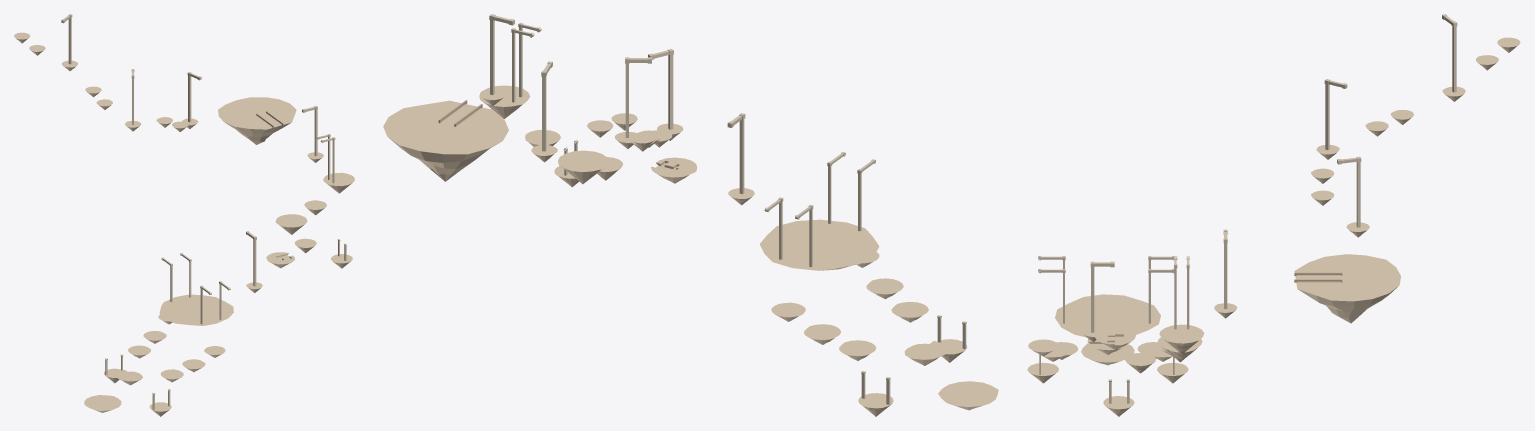
Rendered from trick2_fixed2.fbx.
3 views of the same model, side by side, from view 1: azimuth 30°, elevation 25°; view 2: azimuth 150°, elevation 25°; view 3: azimuth 270°, elevation 25° (orthographic). The views are drawn at different scales.
Parts seen in each view (by area): view 1: isl10, isl19, isl29, isl15, isl12, support_5, isl17_lock; view 2: isl10, isl19, isl29, isl15, isl17_lock, support_5, isl12, isl28_lock, support4, support3, suport, support_3; view 3: isl10, isl19, isl12, isl29, isl17_lock, support_5, support9, suport.
Part boxes in pixels (left/top/right/bottom): isl10: left=218, top=97, right=296, bottom=144; isl19: left=159, top=294, right=233, bottom=325; isl29: left=84, top=395, right=121, bottom=412; isl15: left=275, top=214, right=307, bottom=234; isl12: left=323, top=172, right=354, bottom=193; support_5: left=316, top=134, right=335, bottom=183; isl17_lock: left=266, top=252, right=294, bottom=268; isl10: left=383, top=100, right=508, bottom=181; isl19: left=759, top=219, right=879, bottom=270; isl29: left=938, top=381, right=998, bottom=410; isl15: left=558, top=150, right=608, bottom=184; isl17_lock: left=651, top=157, right=697, bottom=183; support_5: left=511, top=22, right=541, bottom=102; isl12: left=479, top=85, right=530, bottom=118; isl28_lock: left=904, top=341, right=946, bottom=365; support4: left=827, top=152, right=875, bottom=231; support3: left=764, top=197, right=813, bottom=266; suport: left=648, top=48, right=673, bottom=129; support_3: left=727, top=113, right=745, bottom=194; isl10: left=1294, top=254, right=1400, bottom=323; isl19: left=1055, top=294, right=1160, bottom=337; isl12: left=1159, top=324, right=1204, bottom=354; isl29: left=1081, top=343, right=1134, bottom=365; isl17_lock: left=1094, top=327, right=1135, bottom=350; support_5: left=1174, top=256, right=1189, bottom=329; support9: left=1337, top=156, right=1361, bottom=227; suport: left=1324, top=79, right=1347, bottom=149.
Bounding box in the file's own units: 5296 × 4965 × 5478.
